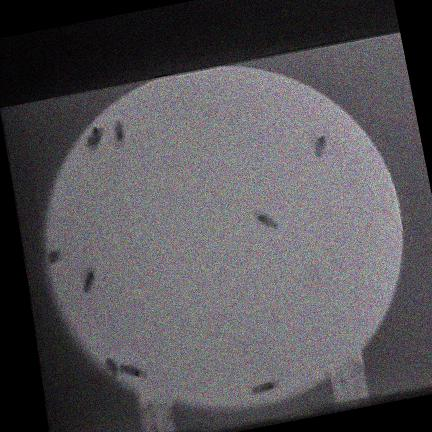fly: (105, 358, 146, 377), (118, 363, 146, 377), (85, 126, 102, 149), (253, 211, 276, 228), (251, 380, 277, 393), (82, 268, 94, 292), (113, 120, 124, 146), (313, 135, 326, 156), (46, 248, 60, 263), (104, 358, 118, 373)
